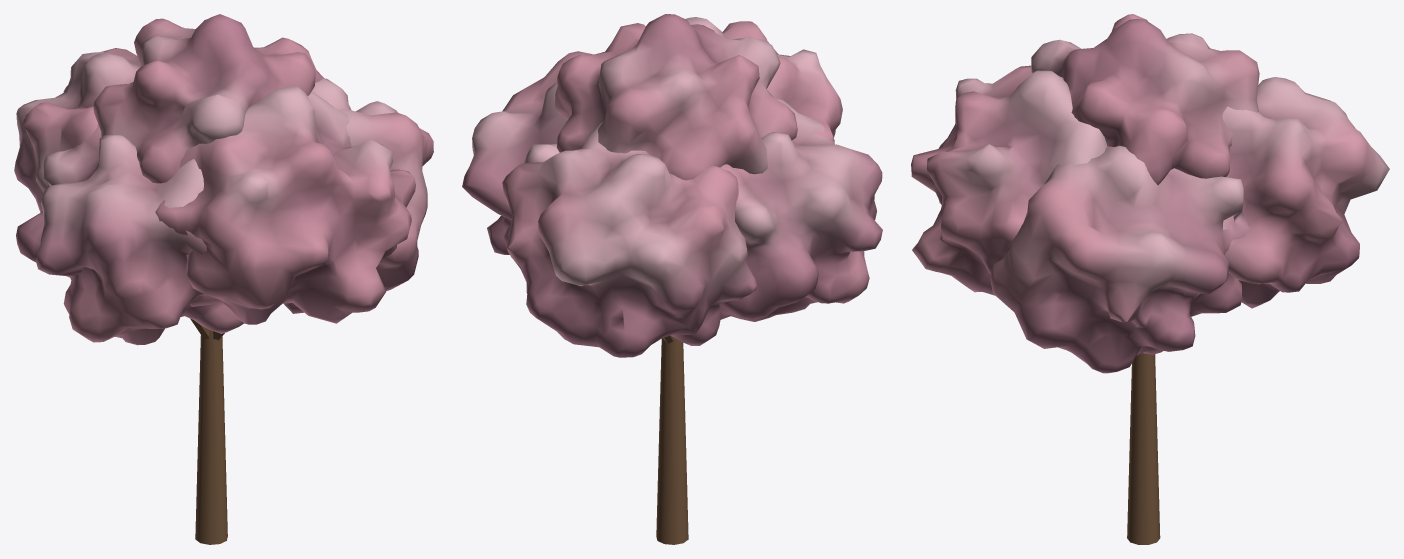
File: tree_blossom.glb
The picture shows the model from 3 angles, left to right: view 1: azimuth 30°, elevation 25°; view 2: azimuth 150°, elevation 25°; view 3: azimuth 270°, elevation 25°; orthographic projection.
Parts seen in each view (by area): view 1: tree_blossom_foliage, tree_blossom; view 2: tree_blossom_foliage, tree_blossom; view 3: tree_blossom_foliage, tree_blossom.
Boxes of the visible parts, x1,y1,x2,y2 form: tree_blossom_foliage: (14, 14, 433, 345); tree_blossom: (190, 318, 227, 544); tree_blossom_foliage: (462, 14, 882, 357); tree_blossom: (656, 335, 688, 544); tree_blossom_foliage: (911, 14, 1389, 373); tree_blossom: (1127, 353, 1160, 544).
Bounding box in the file's own units: 3.51 × 4.5 × 3.76.
